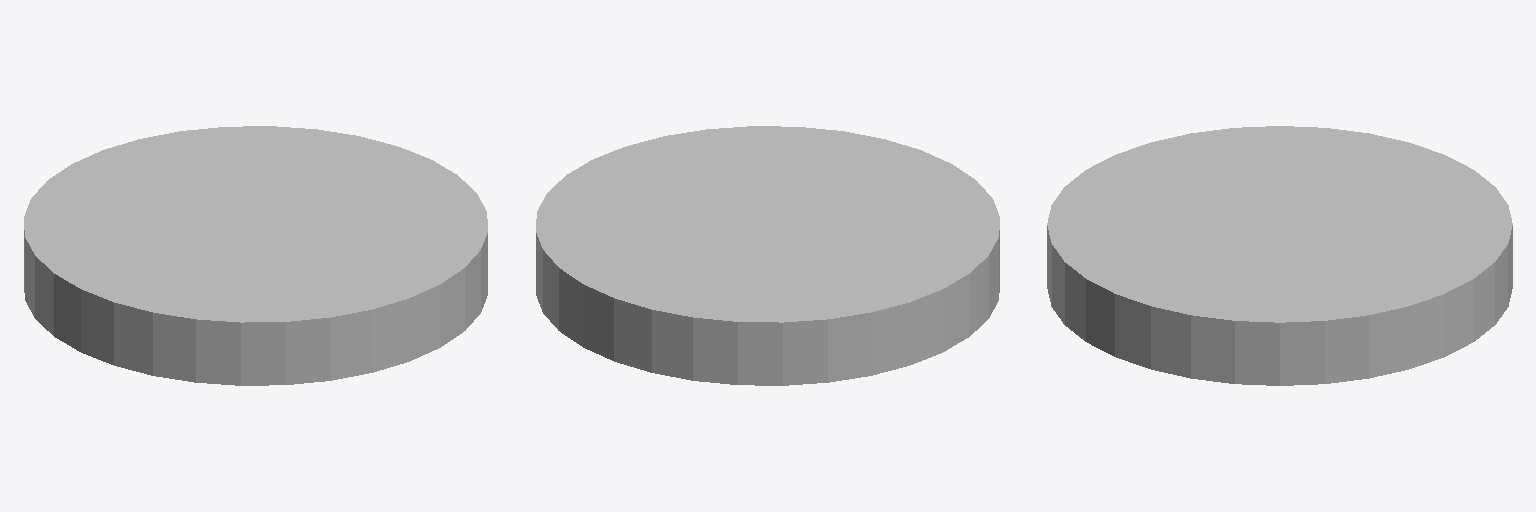
File: coin.obj
The picture shows the model from 3 angles: view 1: azimuth 30°, elevation 25°; view 2: azimuth 150°, elevation 25°; view 3: azimuth 270°, elevation 25°; orthographic projection.
Visible parts, largest first — view 1: coin; view 2: coin; view 3: coin.
Boxes of the visible parts, x1=… form: coin: x1=24, y1=126, x2=487, y2=385; coin: x1=536, y1=126, x2=999, y2=385; coin: x1=1047, y1=126, x2=1512, y2=385.
Bounding box in the file's own units: 2 × 0.3 × 2.